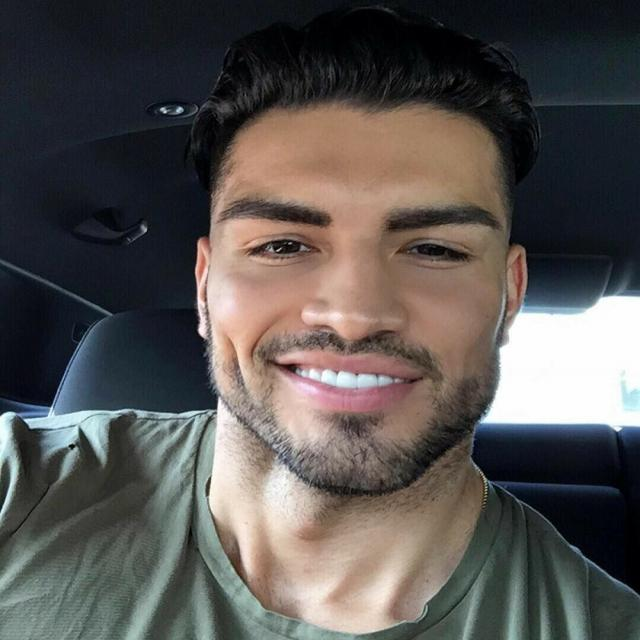earlobe: (198, 311, 211, 343), (500, 319, 511, 348)
eye: (395, 241, 469, 260), (246, 238, 320, 256)
nose: (304, 327, 400, 359)
wholeear: (500, 242, 527, 348), (192, 237, 212, 343)
